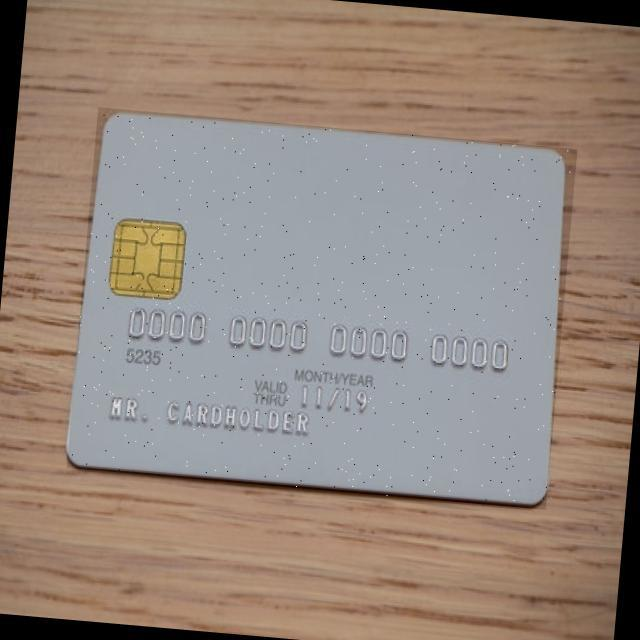payment_card: (64, 106, 568, 507)
